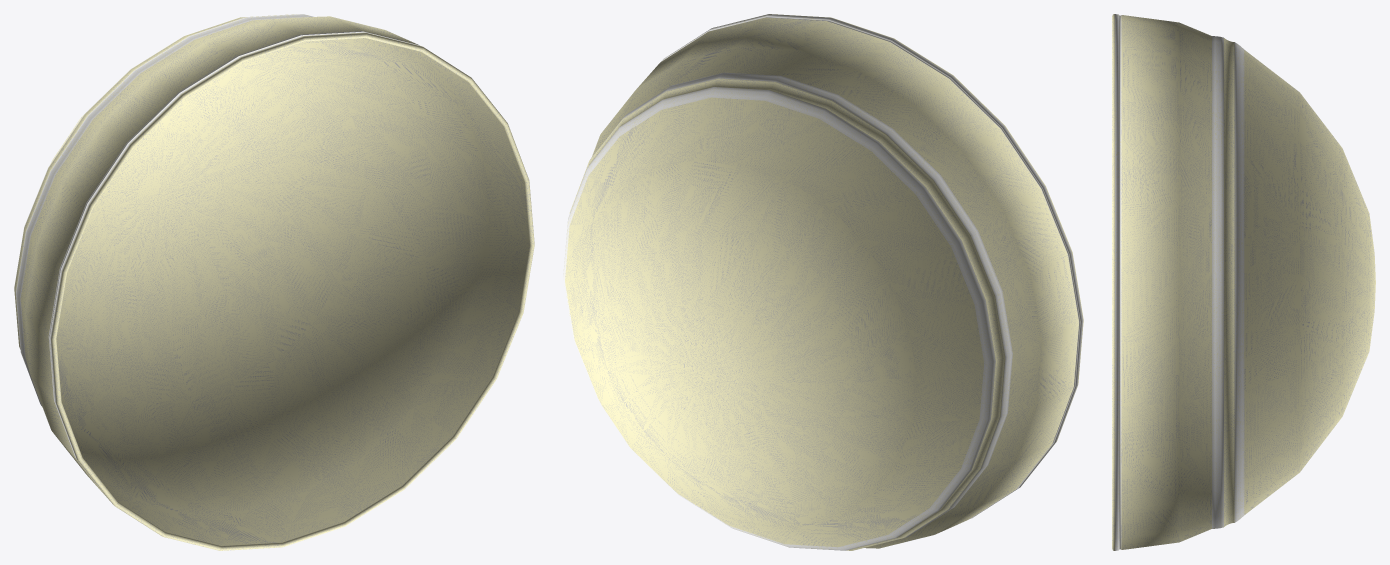
Rendered from model_align.obj.
The picture shows the model from 3 angles, left to right: view 1: azimuth 30°, elevation 25°; view 2: azimuth 150°, elevation 25°; view 3: azimuth 270°, elevation 25°; orthographic projection. The views are drawn at different scales.
Visible parts, largest first — view 1: mesh1_mesh1-geometry; view 2: mesh1_mesh1-geometry; view 3: mesh1_mesh1-geometry.
Part boxes in pixels (box(x1,y1,x2,y2)): mesh1_mesh1-geometry: box(14, 14, 534, 550); mesh1_mesh1-geometry: box(563, 14, 1083, 550); mesh1_mesh1-geometry: box(1112, 14, 1375, 550).
Bounding box in the file's own units: 0.1438 × 0.1438 × 0.0707.
